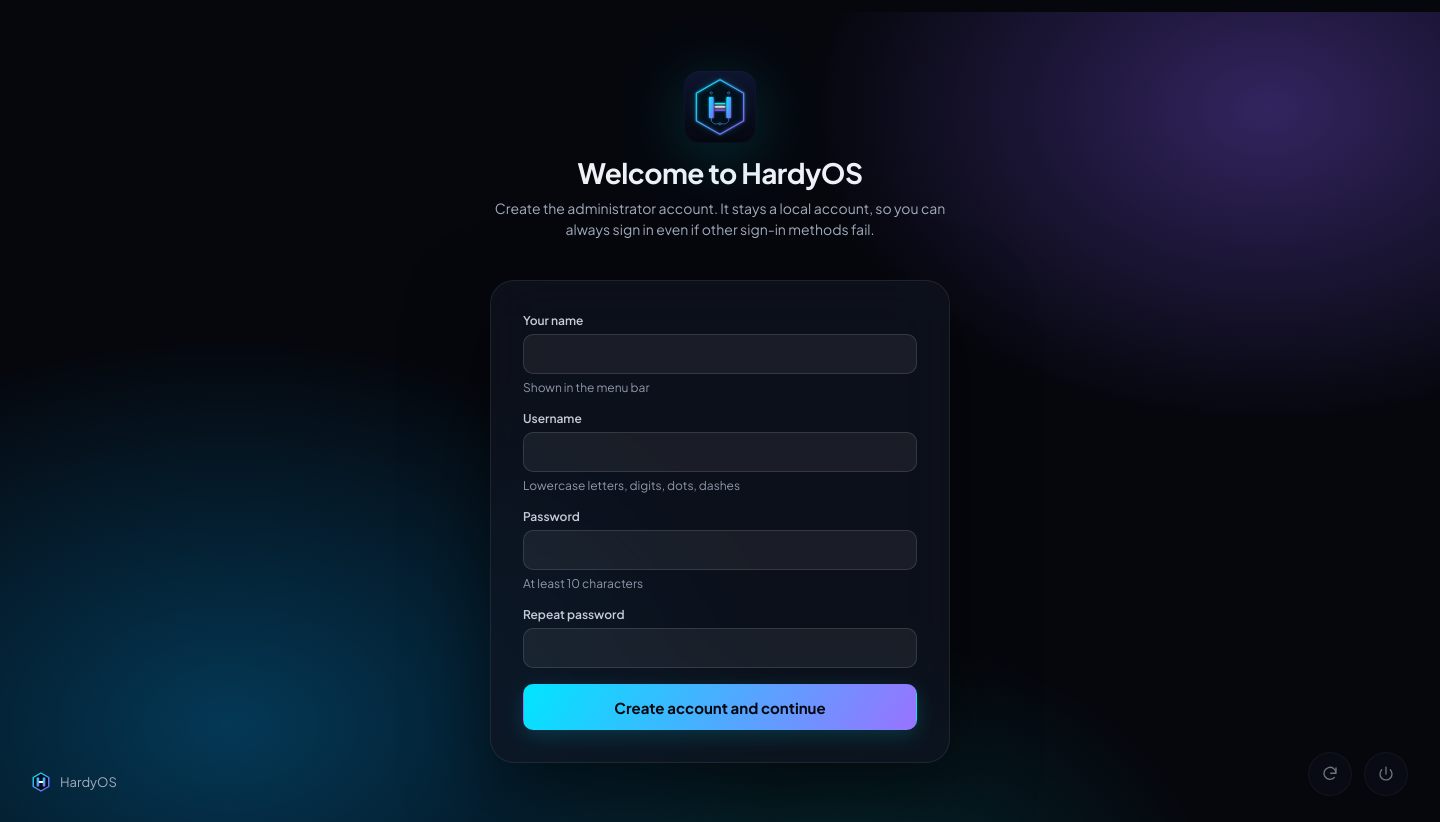
Scenario: App › shows first-run setup and signs the new admin in
Check: the heading "Welcome to HardyOS" is shown, box [578,155,862,190]
Type "cade" into the field labelled "Username" at (720, 452), box [523,432,917,472]
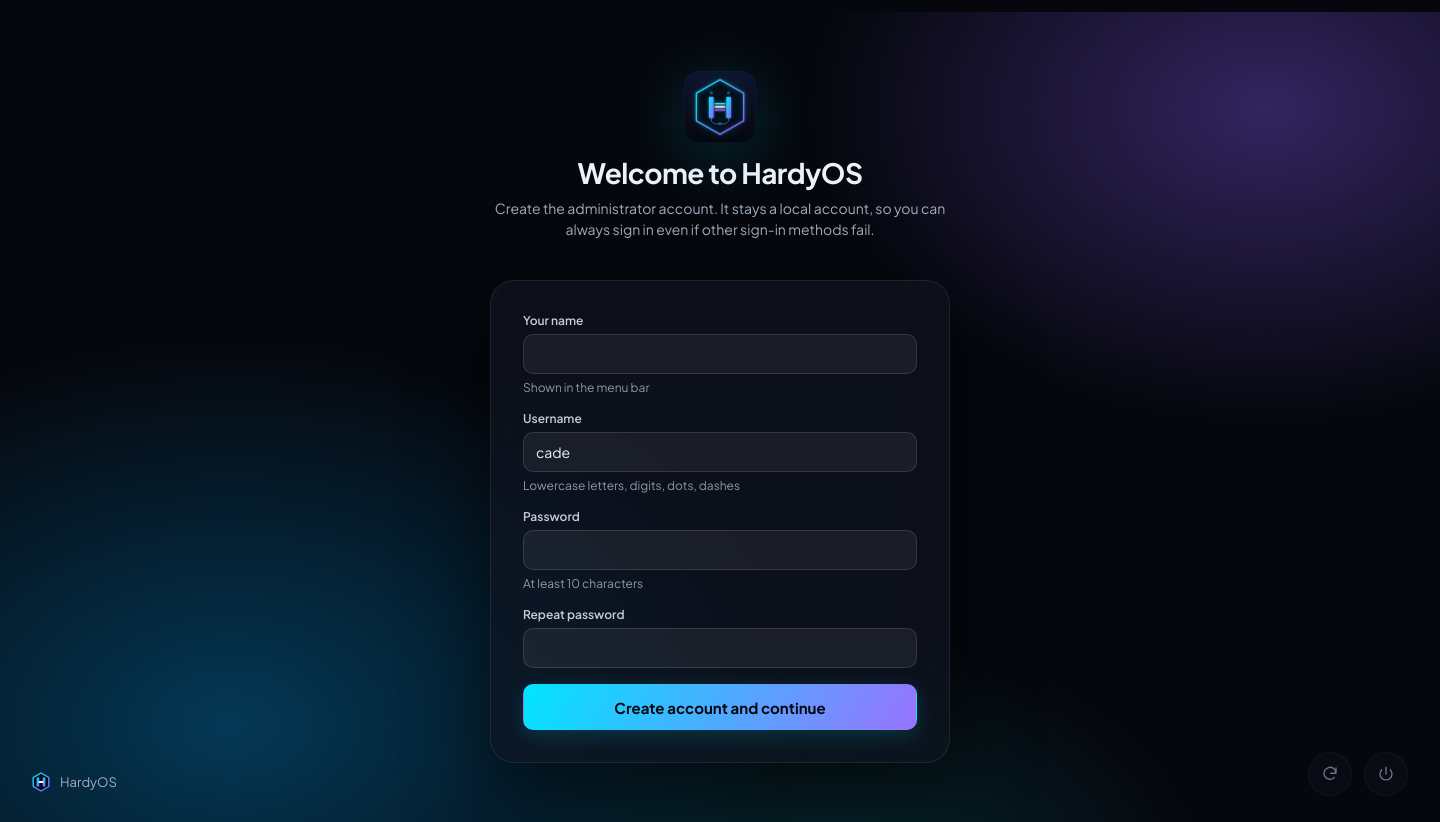
Type "supersecret1" into the password field labelled "Password" at (720, 550), box [523,530,917,570]
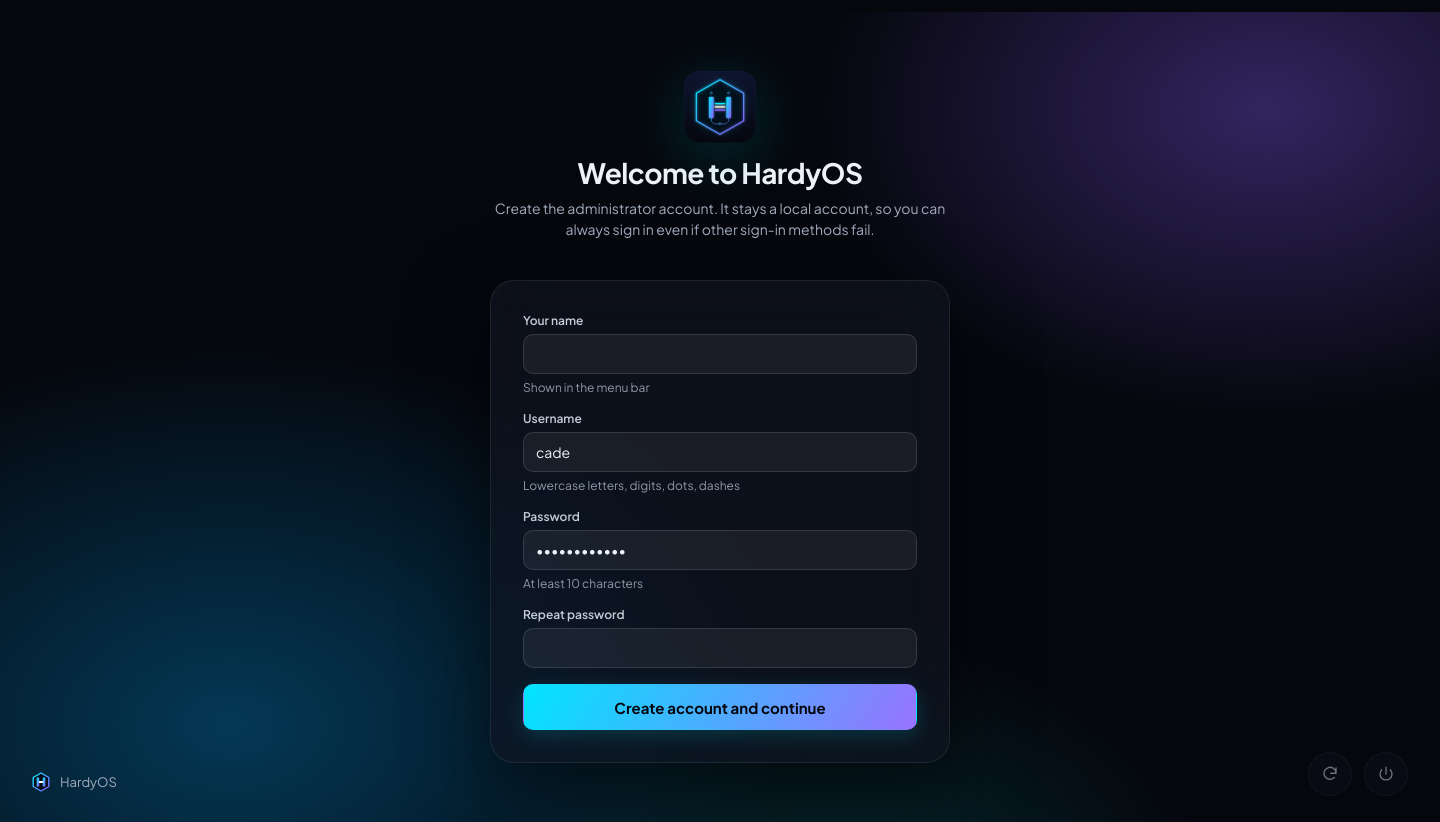
Type "supersecret1" into the password field labelled "Repeat password" at (720, 648), box [523,628,917,668]
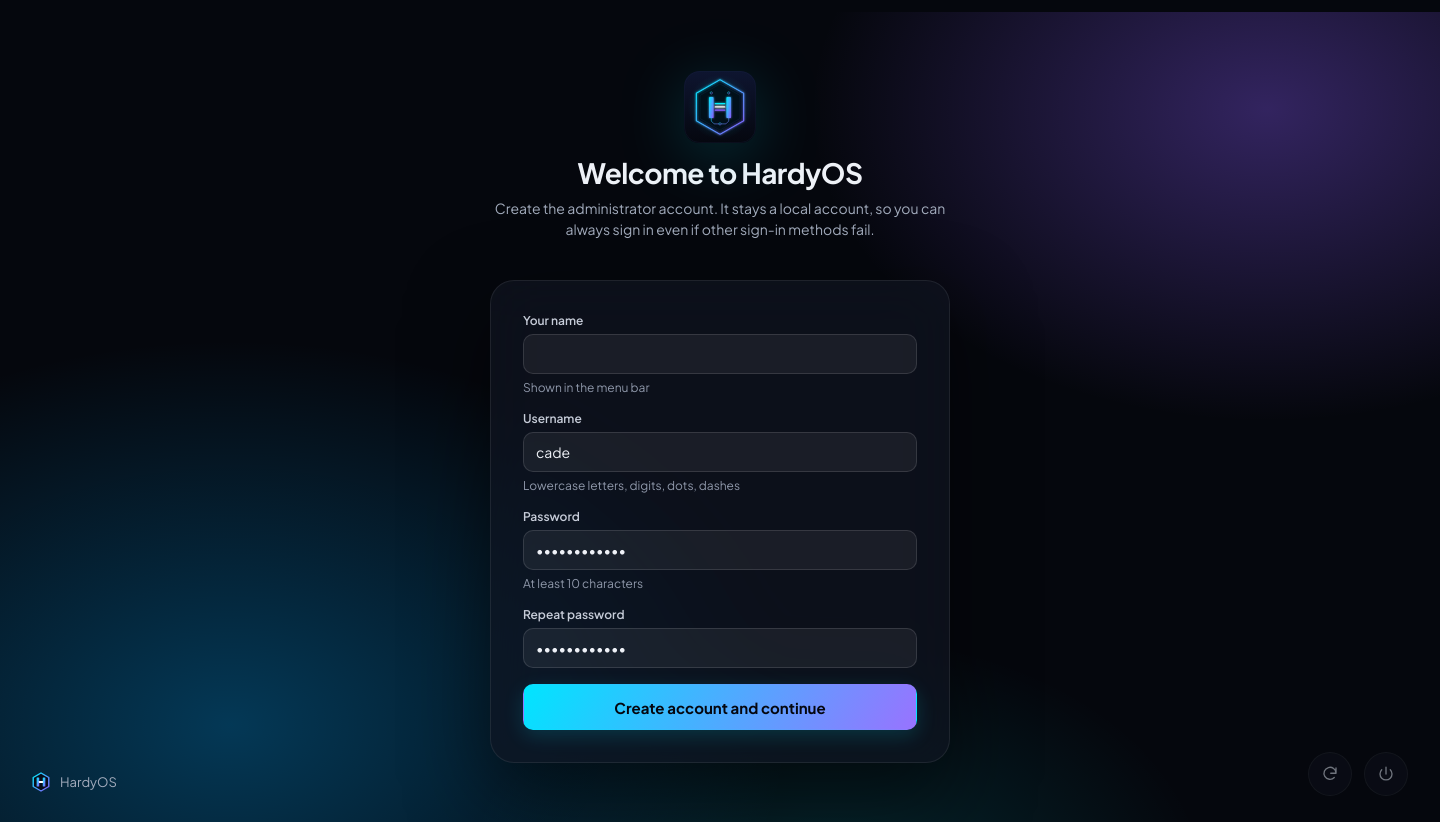
Click the button "Create account and continue" at (720, 707), box [523,684,917,730]
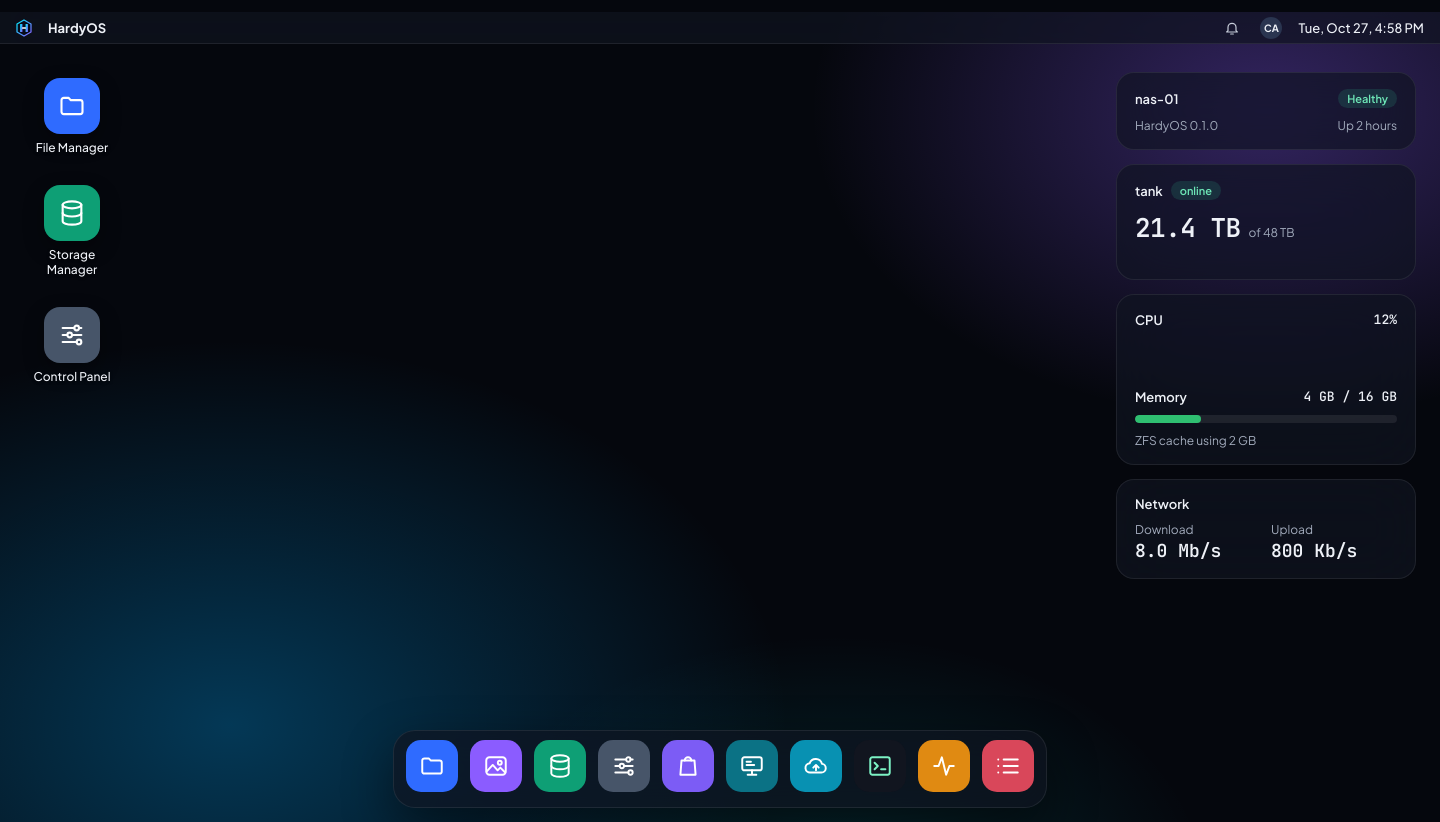
Check: the navigation bar named "Dock" is shown, box [393,730,1047,808]
Check: the text "nas-01" is shown, box [1135,90,1179,106]
